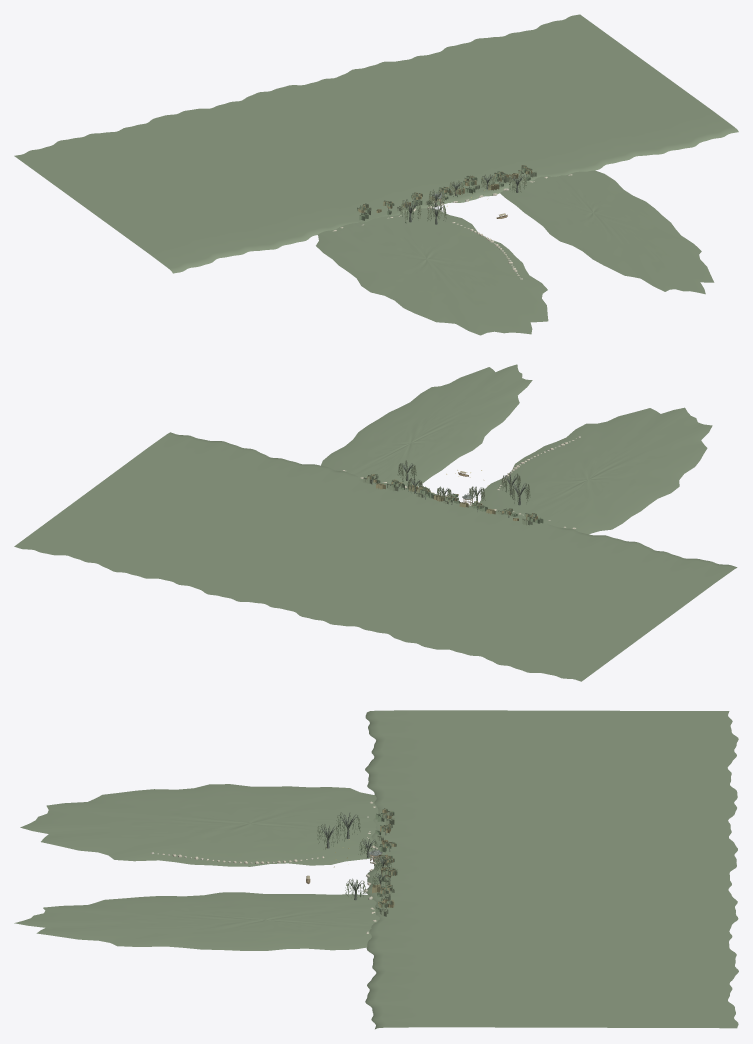
The model's file is willow-orioles.glb.
The picture shows the model from 3 angles, top to bottom: view 1: azimuth 30°, elevation 25°; view 2: azimuth 150°, elevation 25°; view 3: azimuth 270°, elevation 25°; orthographic projection. The views are drawn at different scales.
Visible parts, largest first — view 1: earth, leaf1, crown0, crown2; view 2: earth, leaf1, crown2, crown1, crown0; view 3: earth, leaf0, crown1, crown0, bark, crown2.
Part boxes in pixels (x1=…): earth: x1=14, y1=14, x2=738, y2=335; leaf1: x1=400, y1=173, x2=527, y2=222; crown0: x1=357, y1=166, x2=532, y2=220; crown2: x1=358, y1=165, x2=532, y2=212; earth: x1=14, y1=364, x2=737, y2=681; leaf1: x1=375, y1=460, x2=530, y2=502; crown2: x1=367, y1=474, x2=537, y2=520; crown1: x1=363, y1=475, x2=536, y2=525; crown0: x1=368, y1=474, x2=543, y2=523; earth: x1=14, y1=710, x2=738, y2=1029; leaf0: x1=317, y1=813, x2=391, y2=899; crown1: x1=376, y1=808, x2=397, y2=916; crown0: x1=375, y1=809, x2=397, y2=912; bark: x1=319, y1=812, x2=390, y2=908; crown2: x1=372, y1=809, x2=395, y2=907.
Size of the model in its own units: 300 by 11.12 by 290.
